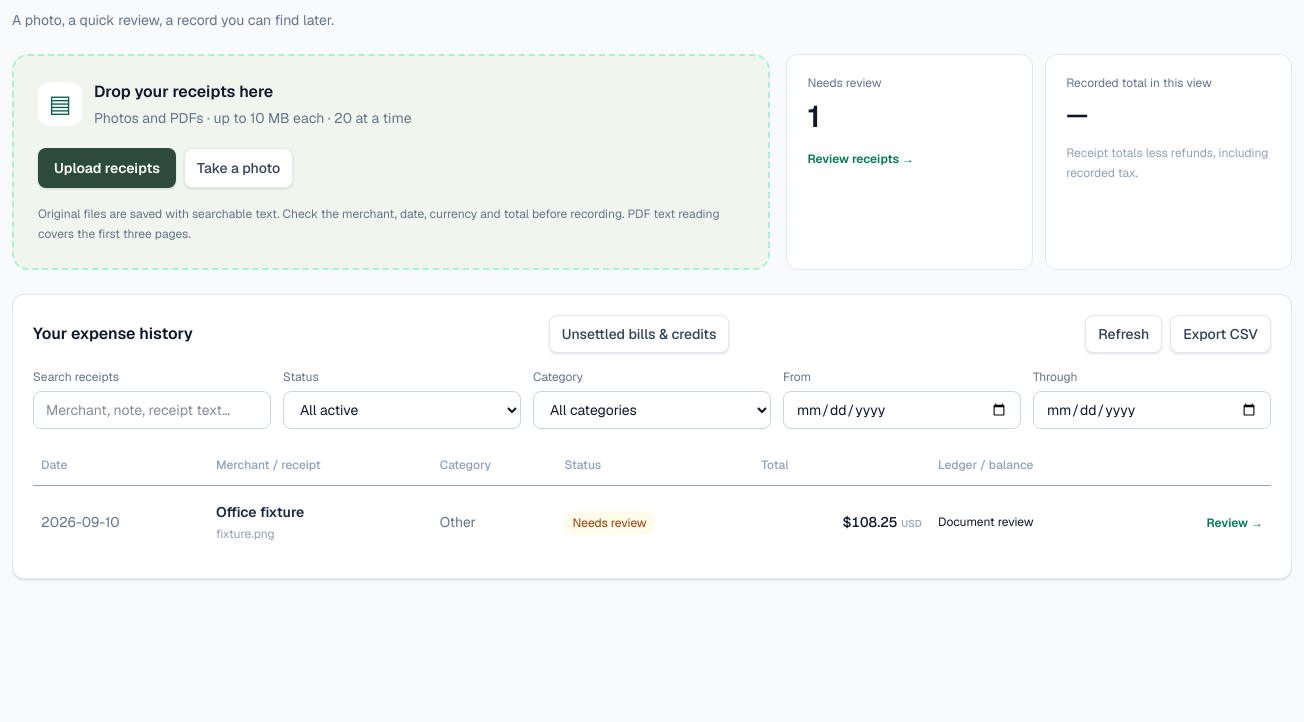
Test: requires review before receipt totals are recorded and sends exact cents
The image size is (1304, 722).
Click the button "Review →". click: (1235, 523)
box: x1=1206 y1=515 x2=1263 y2=531
(page scrolled)
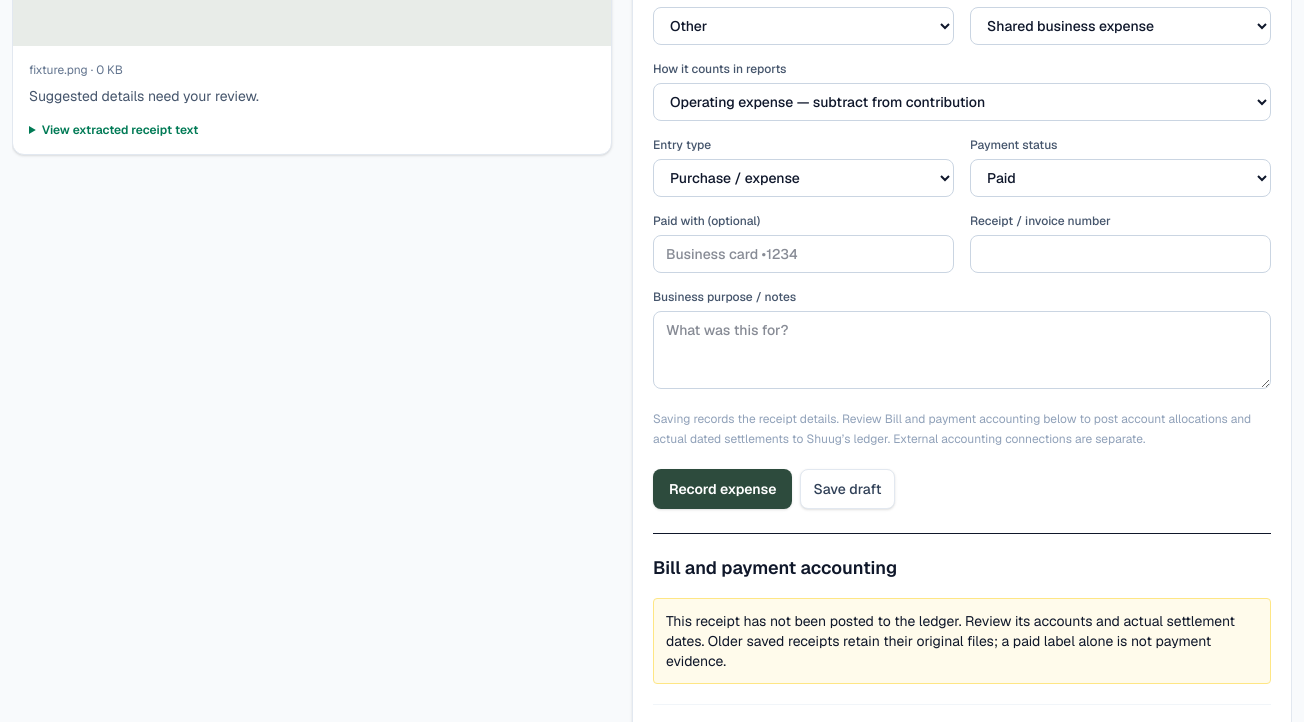
Type "Buyer meeting supplies" into the text box labelled "Business purpose / notes". click: (962, 350)
box: x1=653 y1=311 x2=1271 y2=389
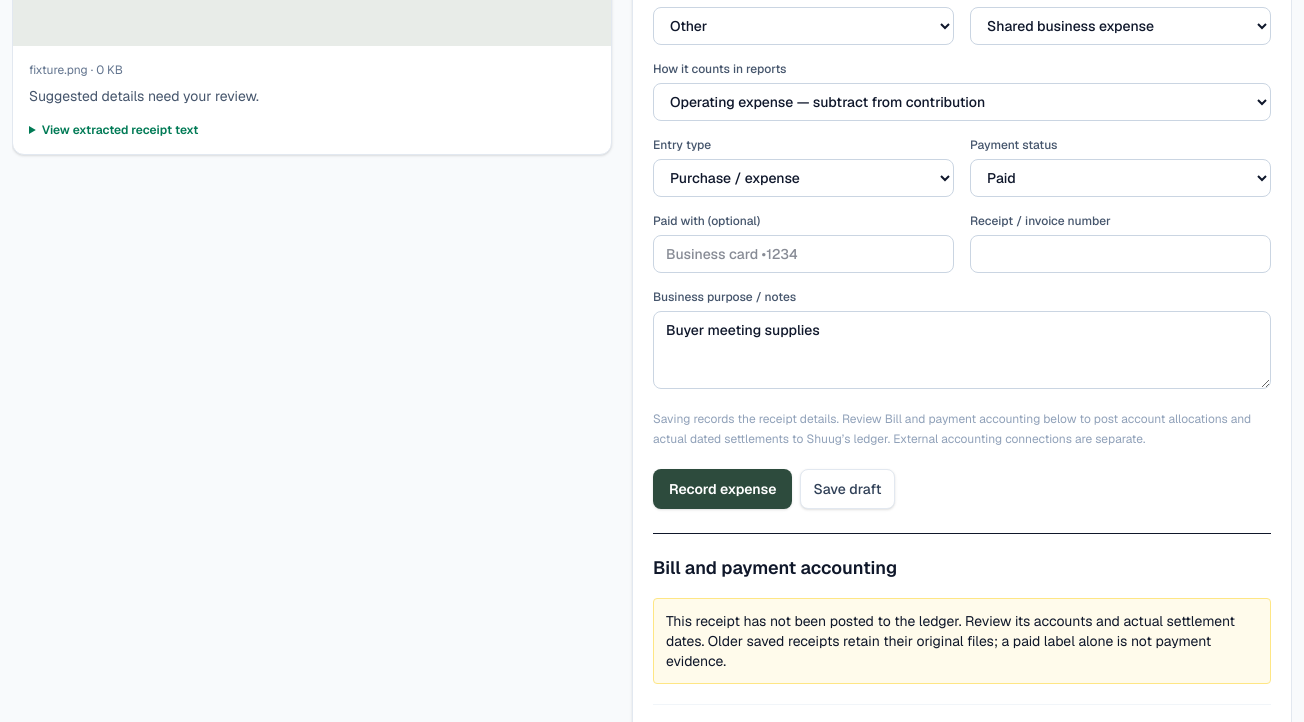
Click the button "Record expense". click: (723, 489)
box: x1=653 y1=469 x2=792 y2=509
(page scrolled)
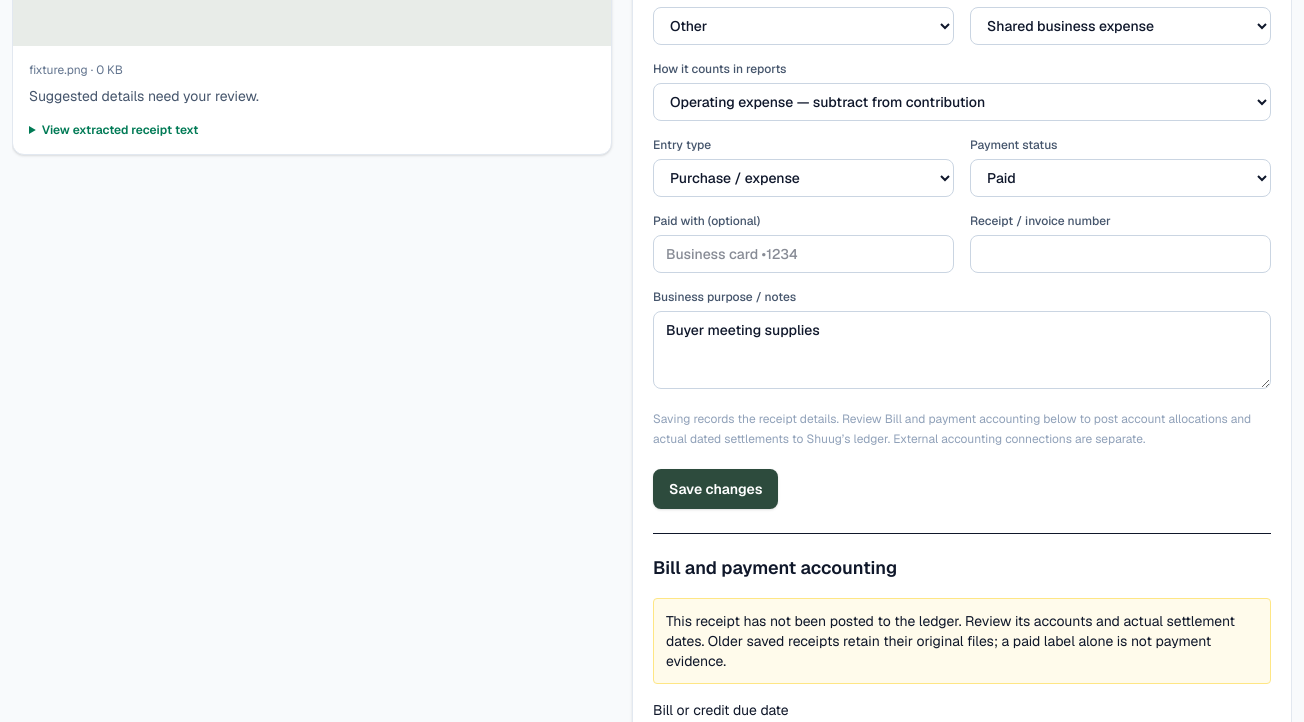
Now the button "Save changes" is shown, box x1=653 y1=469 x2=778 y2=509
